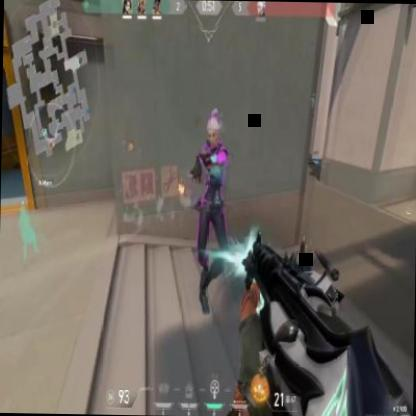enemy: (184, 106, 234, 320)
enemy_head: (206, 108, 220, 146)
